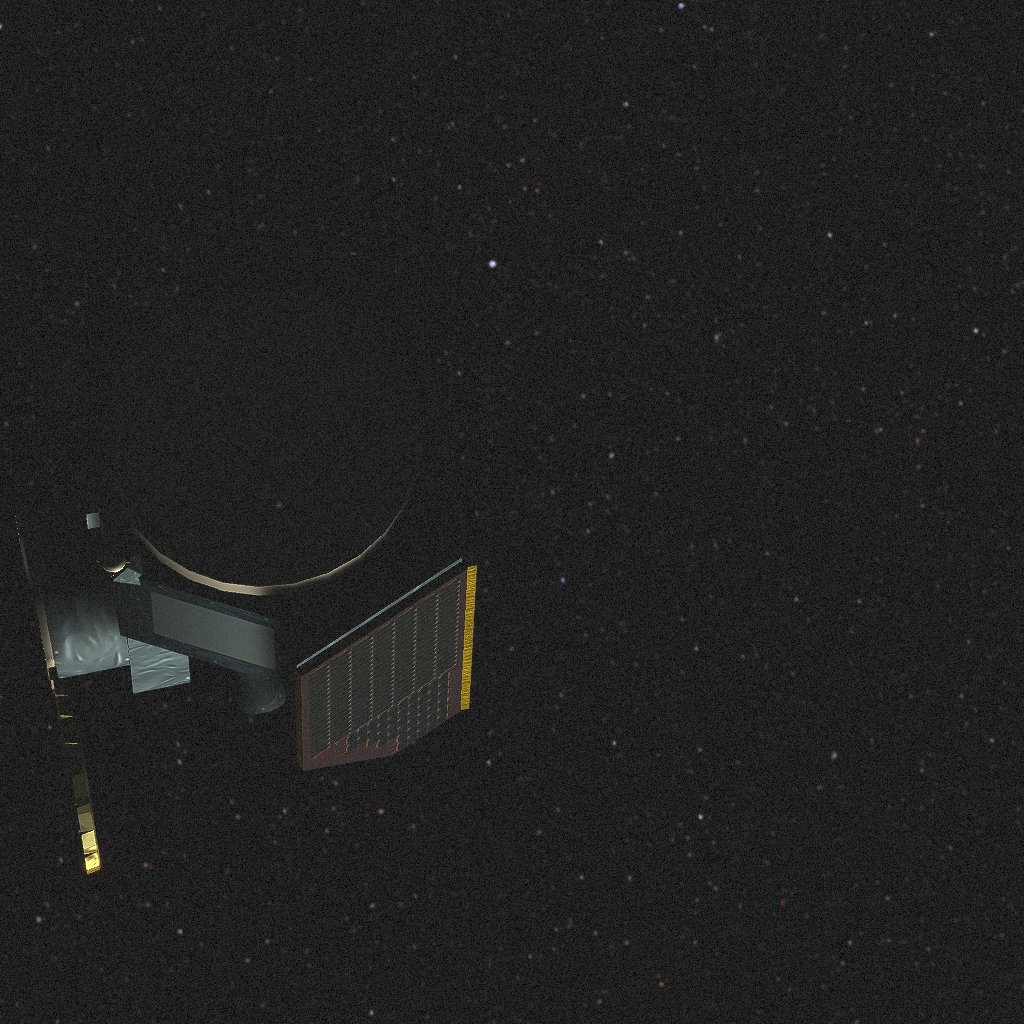cheops: (14, 227, 477, 874)
